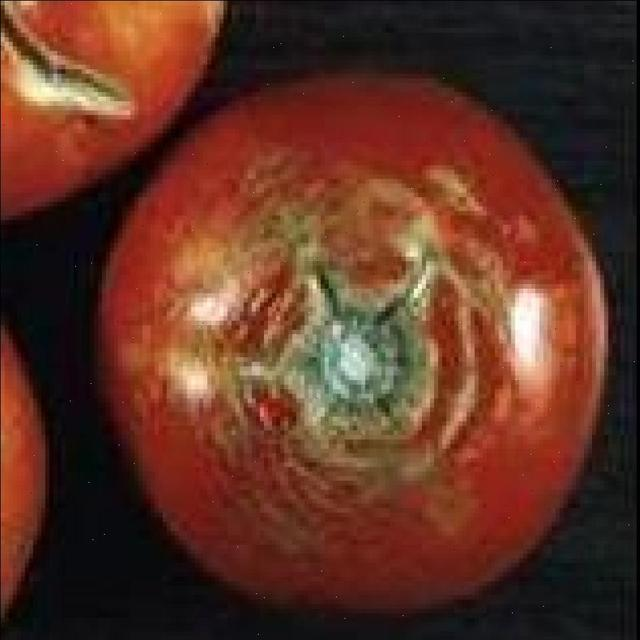Blossom End Rot Fruit: (49, 50, 300, 298)
